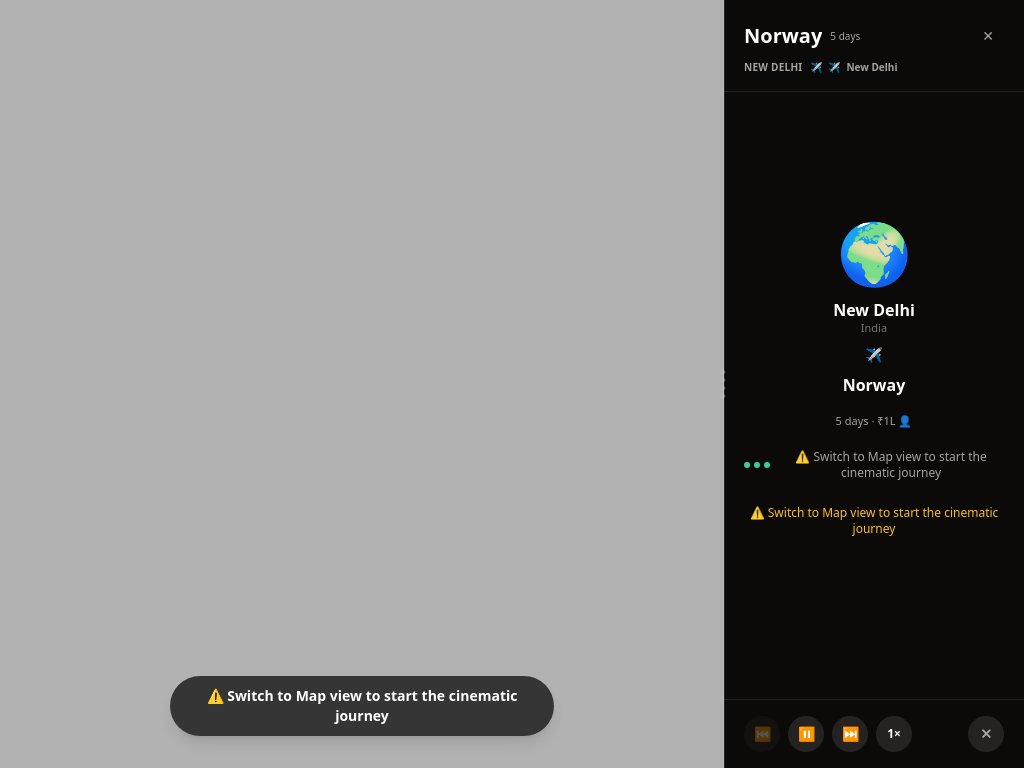
ItineraryCinematic controls › cycles playback speed 1× → 1.5× → 2× → 1×
This screenshot has width=1024, height=768.
What coordinates should you click on to do the following:
click the button named "Playback speed"
I would click on:
 (894, 734)
Its box is x1=876 y1=716 x2=912 y2=752.
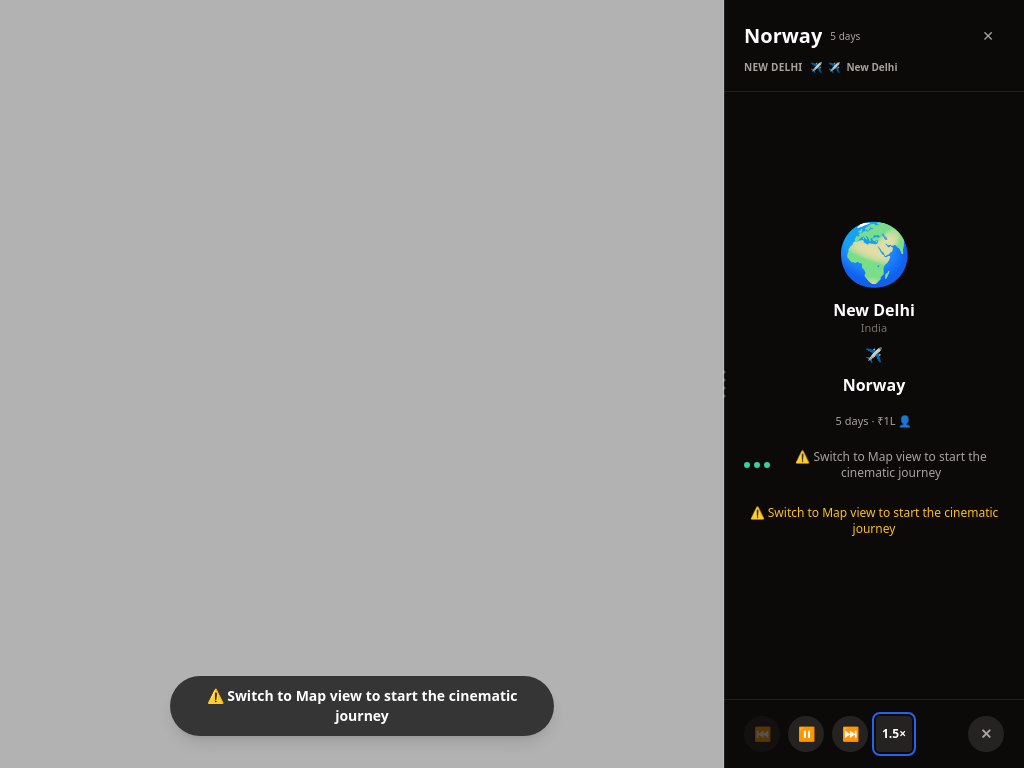
Check: the button named "Playback speed" reads "1.5×"
What coordinates should you click on to do the following:
click the button named "Playback speed"
I would click on:
 (894, 734)
Its box is x1=876 y1=716 x2=912 y2=752.
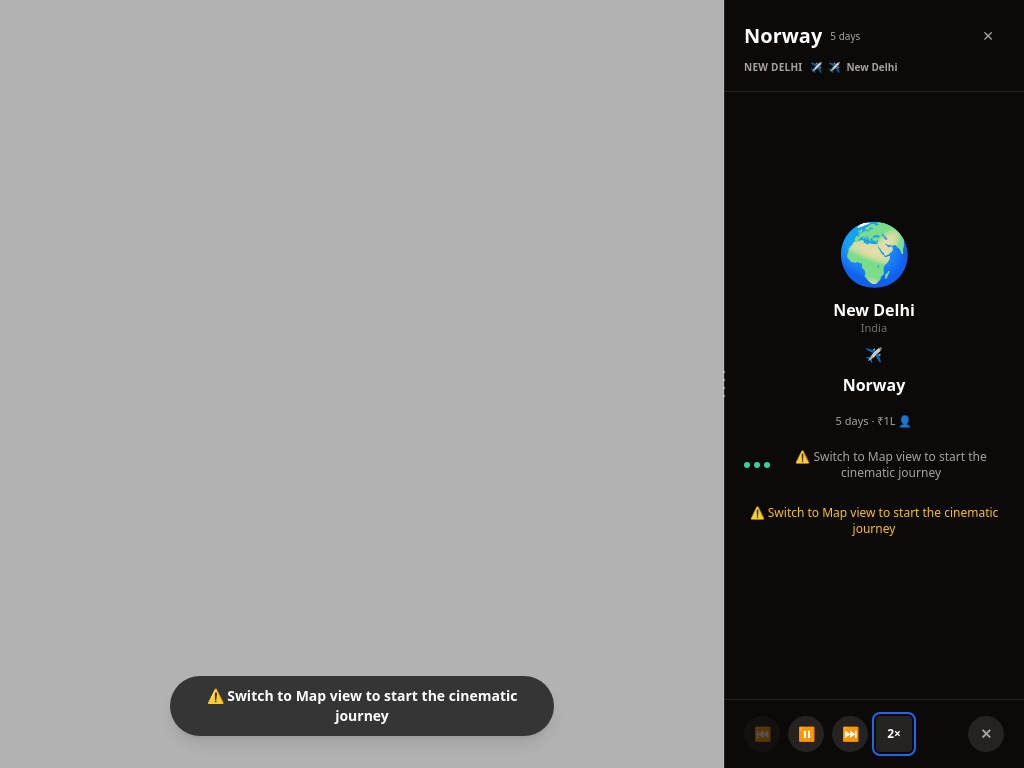
Check: the button named "Playback speed" reads "2×"
What coordinates should you click on to do the following:
click the button named "Playback speed"
I would click on:
 (894, 734)
Its box is x1=876 y1=716 x2=912 y2=752.
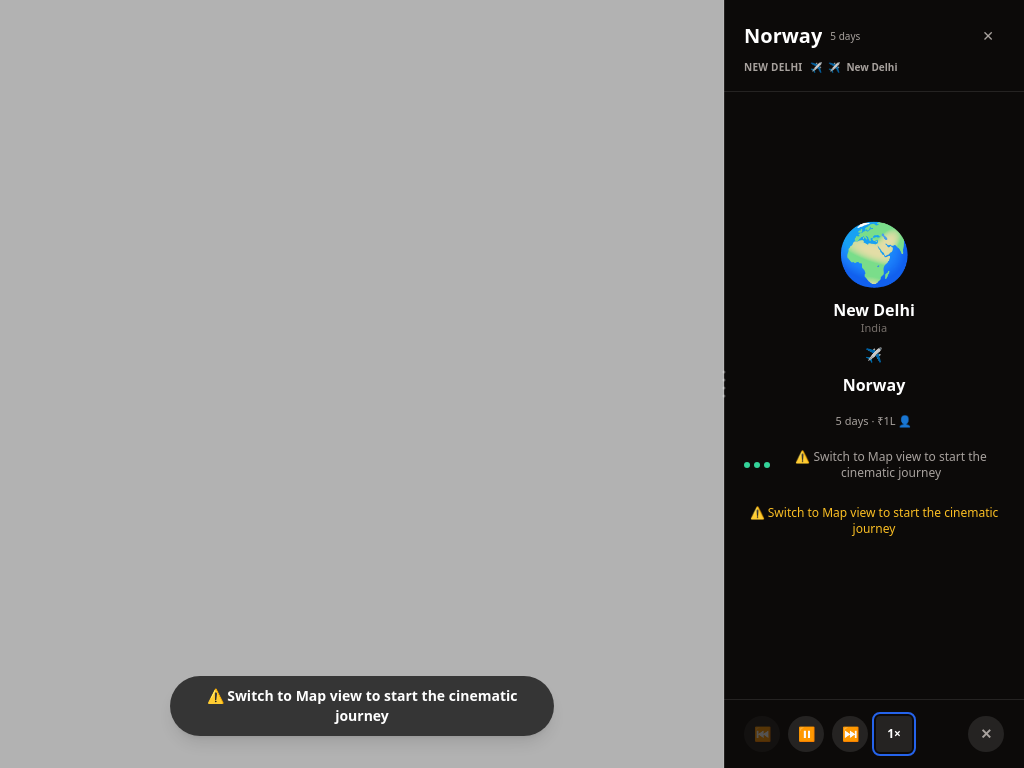
Check: the button named "Playback speed" reads "1×", box x1=876 y1=716 x2=912 y2=752
